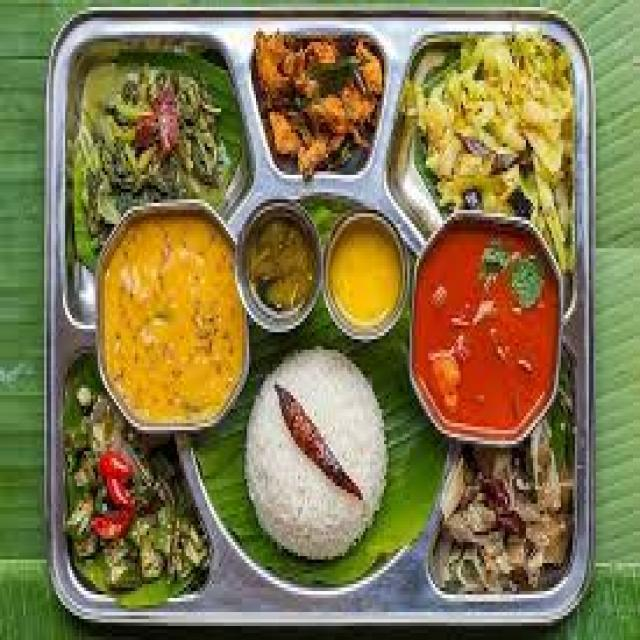dal: (93, 225, 239, 428)
rice: (239, 345, 398, 549)
sambar-rasam: (406, 204, 566, 442)
veg-fry: (404, 33, 571, 231), (256, 36, 395, 182)
